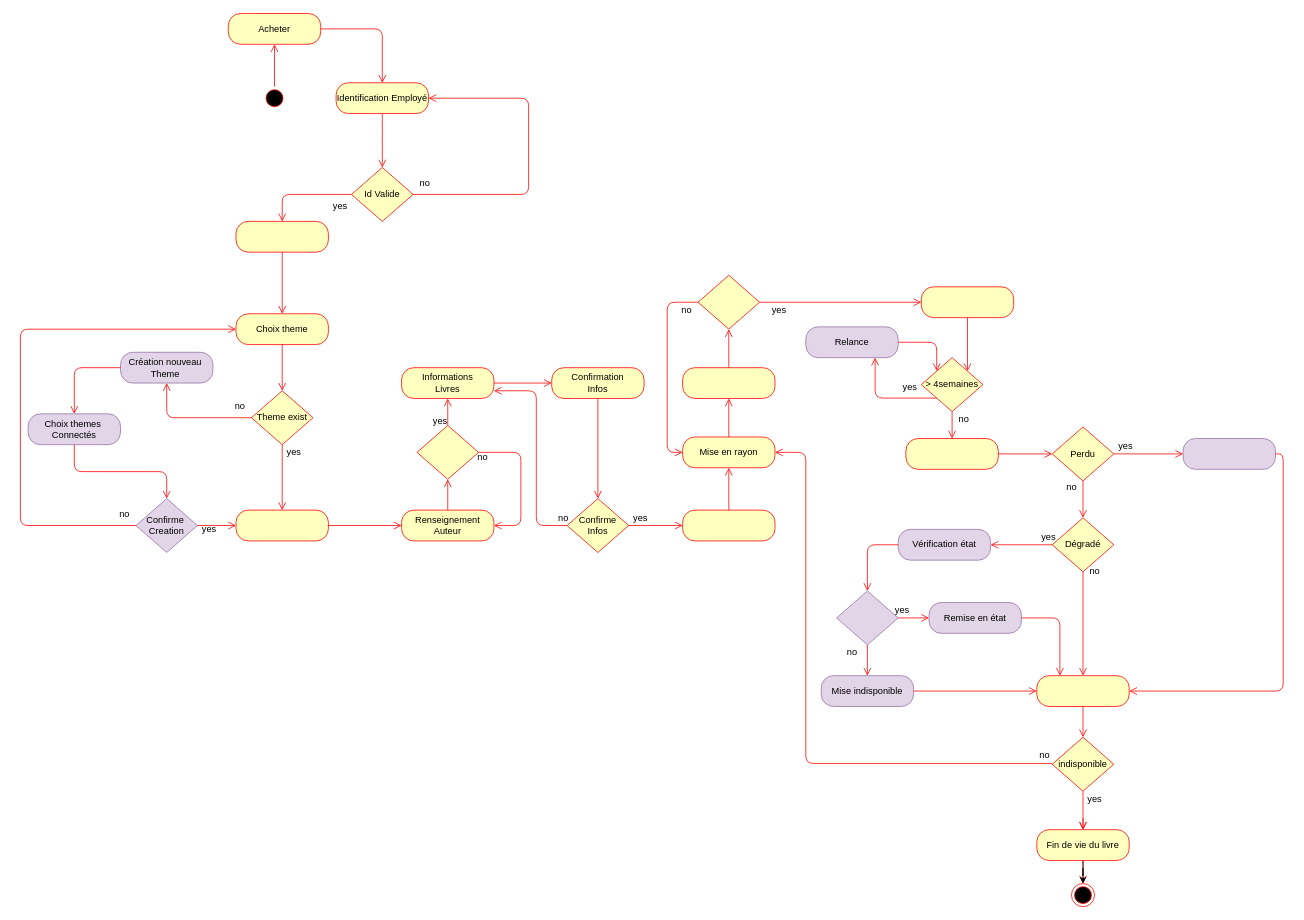
The diagram is 1304 pixels wide and 920 high, and some of its shapes have lost their labels. Each missing label, with the centre of its shape:
Confirmation theme: point (281, 525)
Confirme auteur: point (447, 452)
Création code: point (281, 236)
Création fiche document: point (728, 525)
Création fiche emprunt: point (967, 302)
Empreinté: point (728, 302)
Emprunt: point (728, 382)
Mise Indiponible: point (1229, 453)
Modification fiche emprunt: point (1082, 690)
Retour: point (951, 453)
Réparable: point (867, 617)
